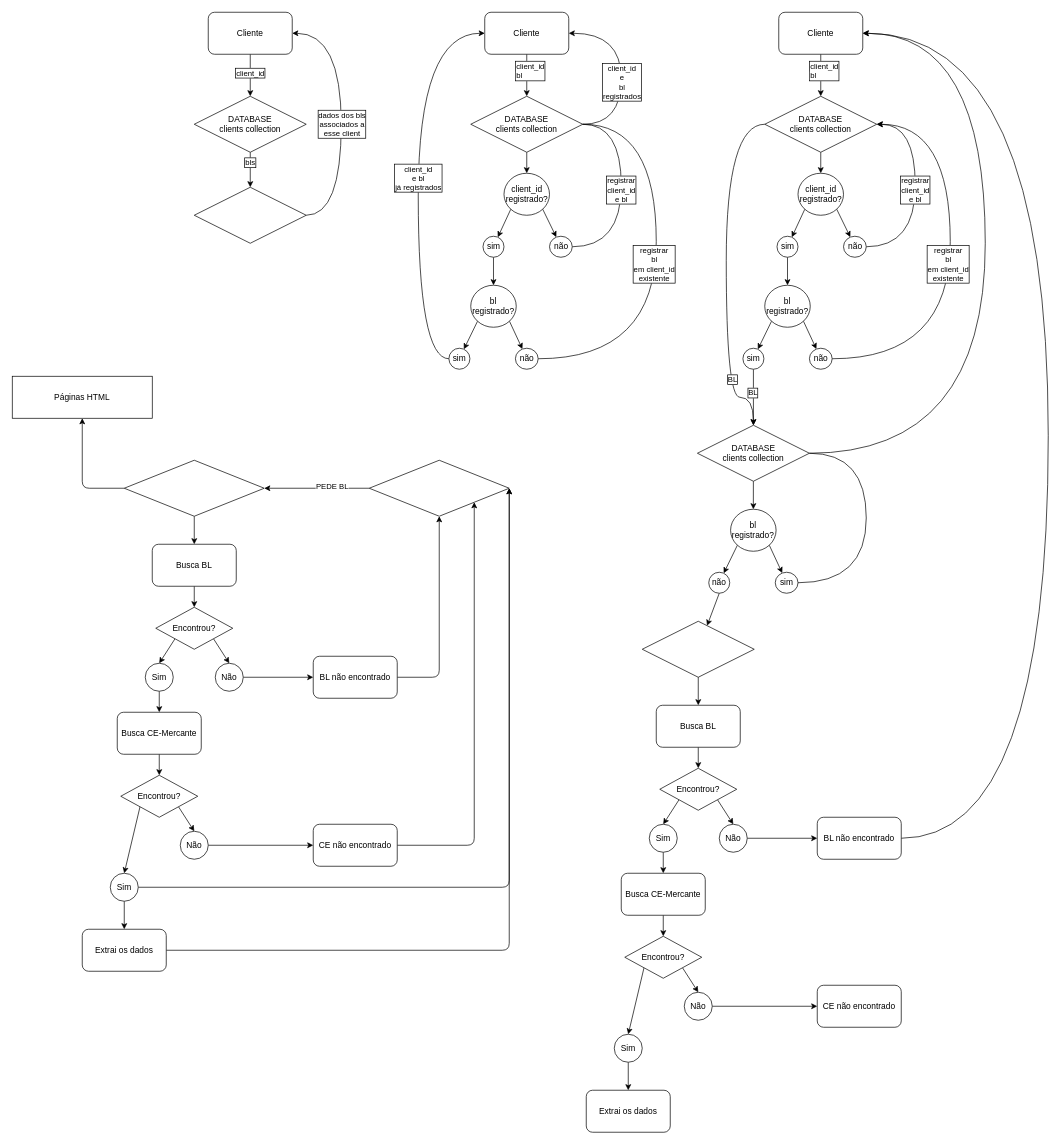
The diagram is 1061 pixels wide and 1145 high, and some of its shapes have lost their labels. Here are the shapes that lost their labels. From the top down, the centre of each, then its label:
point (250, 215): DATABASE bls collection
point (194, 488): Scraper
point (439, 488): Kafka
point (698, 649): SCRAPPER
